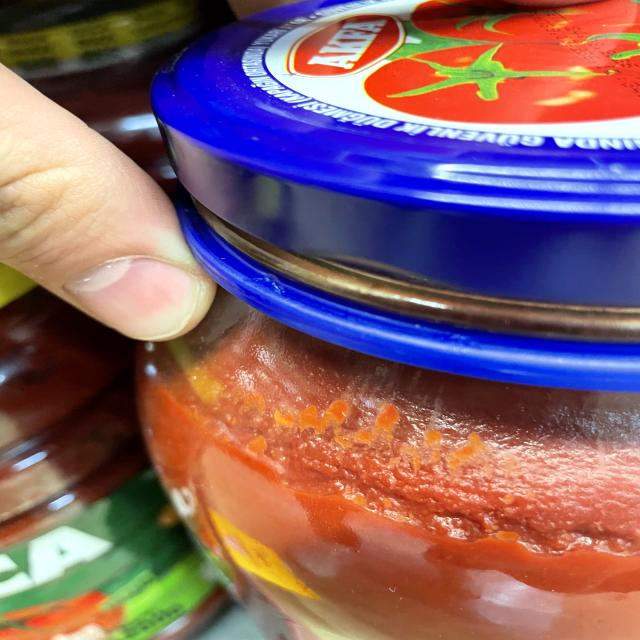tomato paste: (180, 338, 640, 640)
